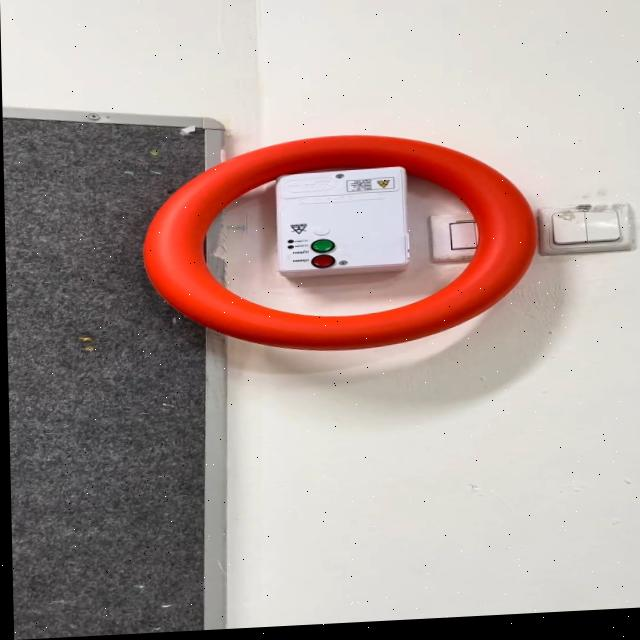note: (137, 129, 541, 364)
